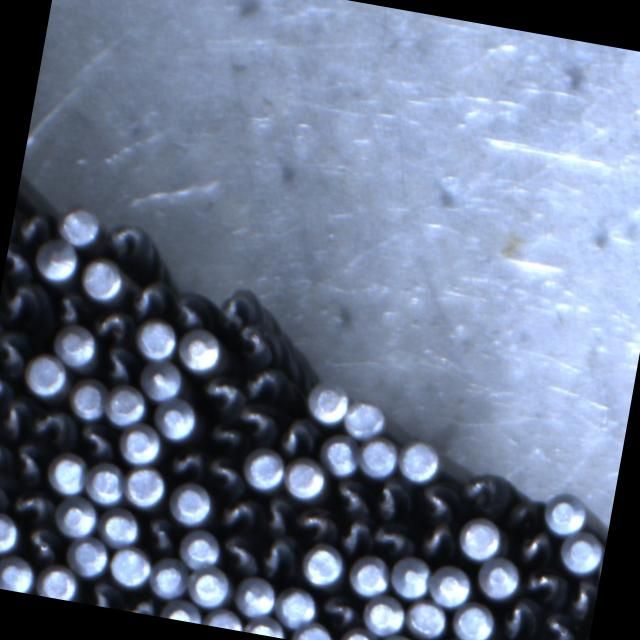tool: (176, 324, 228, 373), (78, 254, 130, 302), (23, 350, 72, 400), (558, 526, 607, 575), (426, 560, 476, 608), (165, 478, 215, 526), (540, 488, 590, 536), (32, 236, 82, 284), (298, 539, 347, 587), (474, 552, 523, 600), (50, 321, 100, 368), (281, 452, 329, 500), (360, 590, 408, 638), (456, 514, 504, 562), (274, 581, 322, 629), (52, 492, 101, 539), (178, 524, 225, 572), (134, 314, 182, 361), (316, 431, 364, 478), (106, 543, 155, 589), (140, 360, 189, 406), (122, 463, 169, 510), (103, 382, 150, 429), (304, 378, 352, 424), (396, 439, 444, 485), (118, 421, 166, 467), (346, 552, 394, 598), (151, 396, 199, 442), (232, 572, 280, 618), (186, 562, 233, 608), (242, 443, 288, 490), (46, 448, 91, 496), (96, 503, 144, 548), (388, 552, 433, 600), (84, 459, 129, 506), (147, 553, 192, 600), (56, 206, 104, 250), (342, 398, 388, 442), (356, 434, 400, 480), (402, 596, 448, 640), (66, 376, 110, 422), (66, 534, 112, 578), (450, 599, 498, 640), (34, 562, 82, 602), (0, 551, 37, 594), (160, 596, 206, 624), (243, 612, 289, 639), (204, 604, 248, 632), (0, 509, 21, 555), (291, 619, 336, 640), (337, 624, 379, 640), (378, 630, 425, 640)
tool_b: (458, 468, 514, 518), (214, 281, 264, 335), (102, 217, 158, 264), (25, 398, 77, 448), (123, 270, 174, 318), (368, 476, 416, 526), (0, 276, 48, 325), (214, 528, 262, 577), (240, 361, 292, 406), (254, 532, 300, 582), (413, 476, 462, 522), (194, 370, 244, 415), (5, 436, 50, 485), (323, 473, 372, 518), (7, 482, 57, 526), (214, 489, 262, 534), (234, 398, 282, 443), (520, 561, 568, 605), (275, 414, 321, 459), (498, 593, 542, 640), (200, 450, 247, 494), (71, 418, 118, 462), (167, 287, 213, 331), (290, 502, 338, 544), (368, 518, 416, 559), (414, 518, 458, 562), (12, 204, 56, 248), (200, 414, 248, 454), (512, 526, 556, 568), (256, 492, 296, 538), (90, 303, 136, 343), (316, 588, 362, 628), (140, 512, 181, 556), (98, 342, 140, 384), (164, 441, 208, 481), (0, 322, 32, 376), (21, 522, 64, 562), (334, 512, 374, 554), (564, 574, 600, 620), (48, 287, 88, 328), (0, 393, 33, 442), (533, 606, 580, 640), (82, 578, 124, 610), (2, 241, 34, 282), (122, 592, 164, 616), (0, 468, 12, 513), (0, 433, 11, 473), (0, 371, 12, 406)
